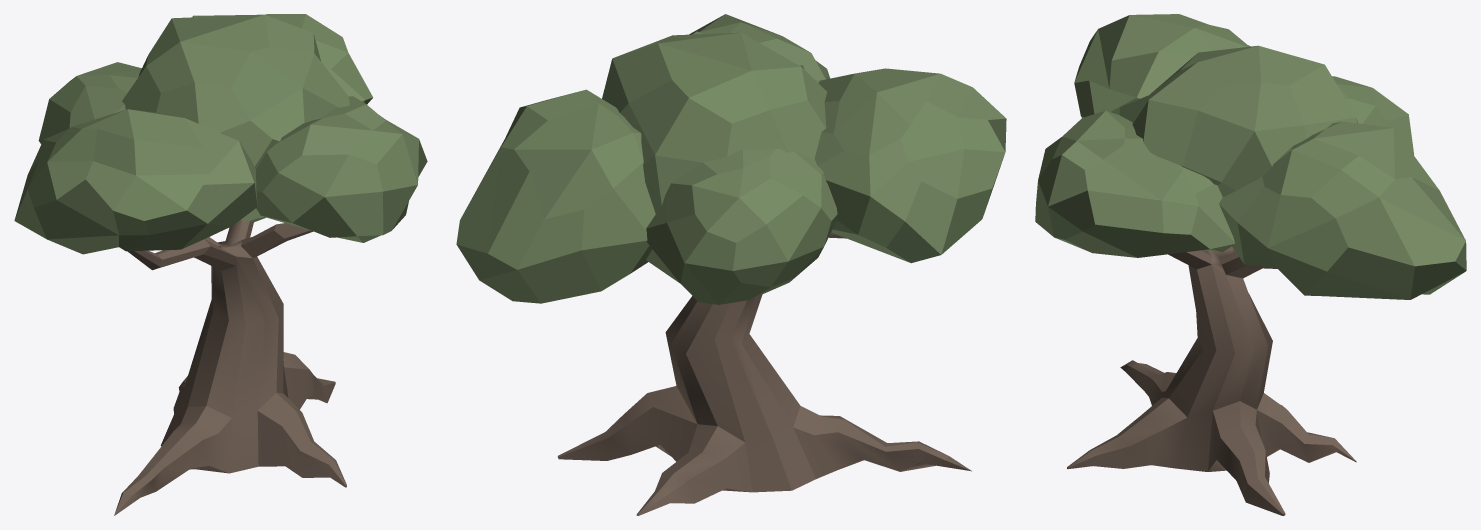
Rendered from GeheleWeenieBoom.fbx.
The picture shows the model from 3 angles, left to right: view 1: azimuth 30°, elevation 25°; view 2: azimuth 150°, elevation 25°; view 3: azimuth 270°, elevation 25°; orthographic projection. The views are drawn at different scales.
Visible parts, largest first — view 1: polySurface3183; view 2: polySurface3183; view 3: polySurface3183.
Boxes of the visible parts, <box> form: polySurface3183: <box>14,14,427,515</box>; polySurface3183: <box>456,14,1006,515</box>; polySurface3183: <box>1035,14,1466,515</box>.
Size of the model in its own units: 872 by 857 by 865.
